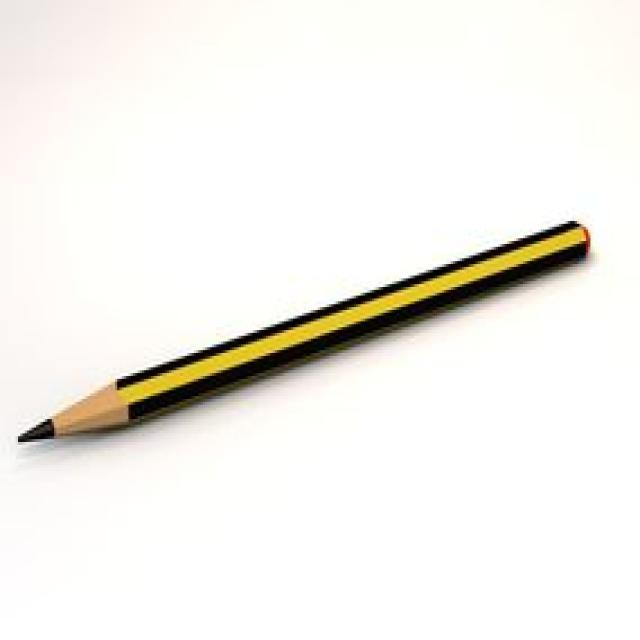pencil: (6, 207, 598, 449)
